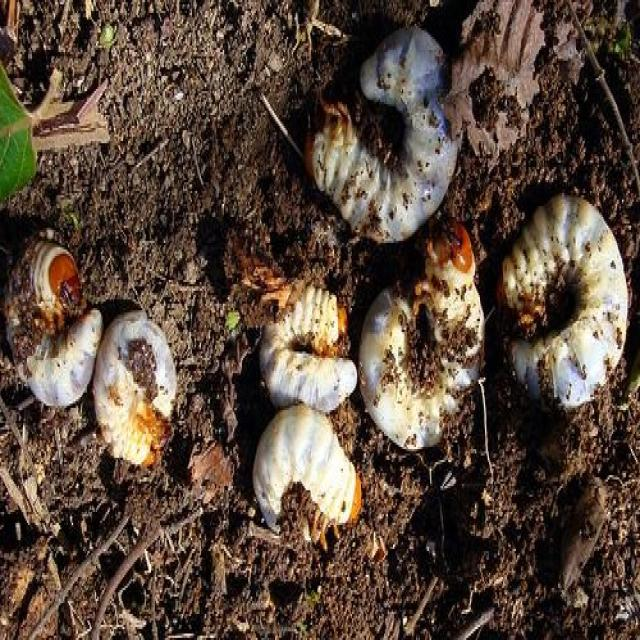grub: (301, 24, 464, 247), (495, 190, 631, 415), (357, 227, 485, 452), (232, 405, 365, 548), (1, 232, 103, 407), (255, 277, 361, 420), (92, 301, 181, 466)
